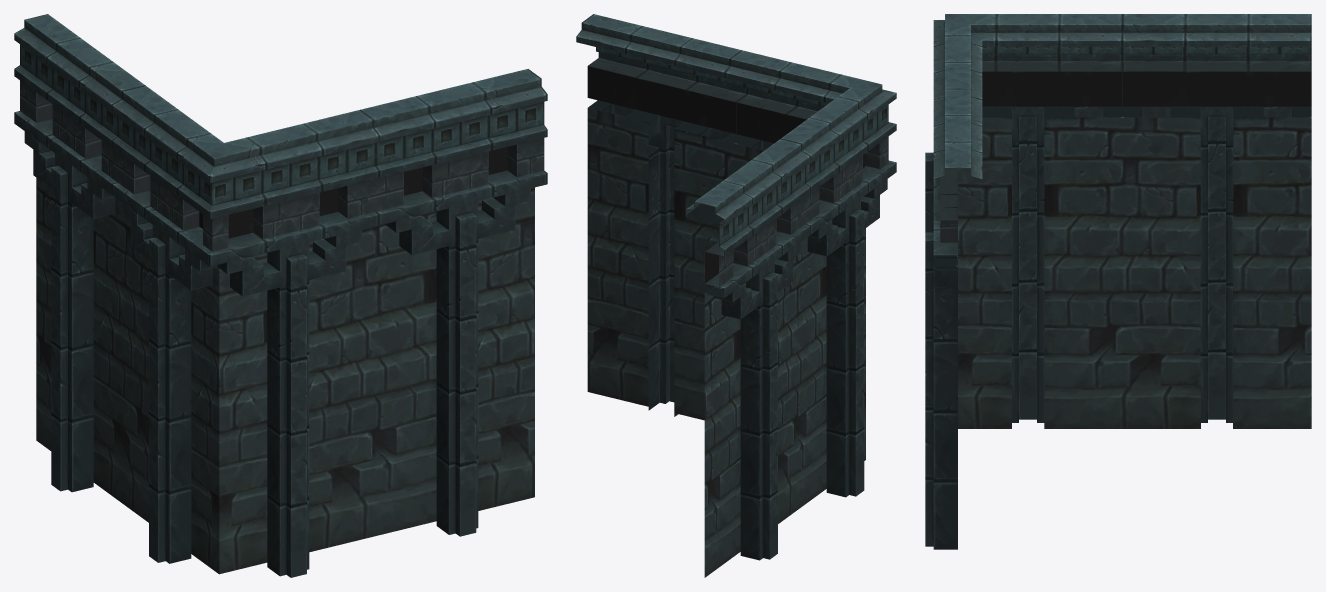
The model's file is Stage_DiXiaCheng_DiMianBaoBian01.FBX.
3 views of the same model, side by side, from view 1: azimuth 30°, elevation 25°; view 2: azimuth 150°, elevation 25°; view 3: azimuth 270°, elevation 25° (orthographic). The views are drawn at different scales.
Parts seen in each view (by area): view 1: Stage_DiXiaCheng_DiMianBaoBian01; view 2: Stage_DiXiaCheng_DiMianBaoBian01; view 3: Stage_DiXiaCheng_DiMianBaoBian01.
Part boxes in pixels (left/top/right/bottom): Stage_DiXiaCheng_DiMianBaoBian01: left=14, top=14, right=547, bottom=577; Stage_DiXiaCheng_DiMianBaoBian01: left=576, top=14, right=896, bottom=577; Stage_DiXiaCheng_DiMianBaoBian01: left=925, top=14, right=1311, bottom=549.
Bounding box in the file's own units: 1230 × 1458 × 1234.
